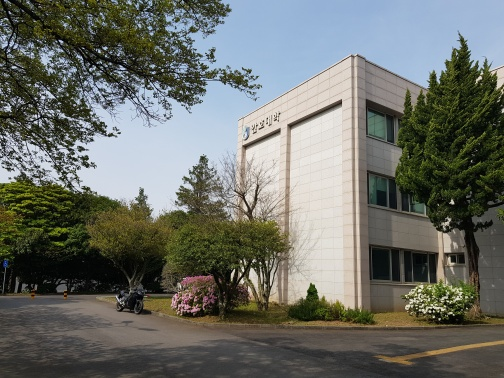College of Nursing: (223, 41, 495, 306), (238, 108, 285, 144)
